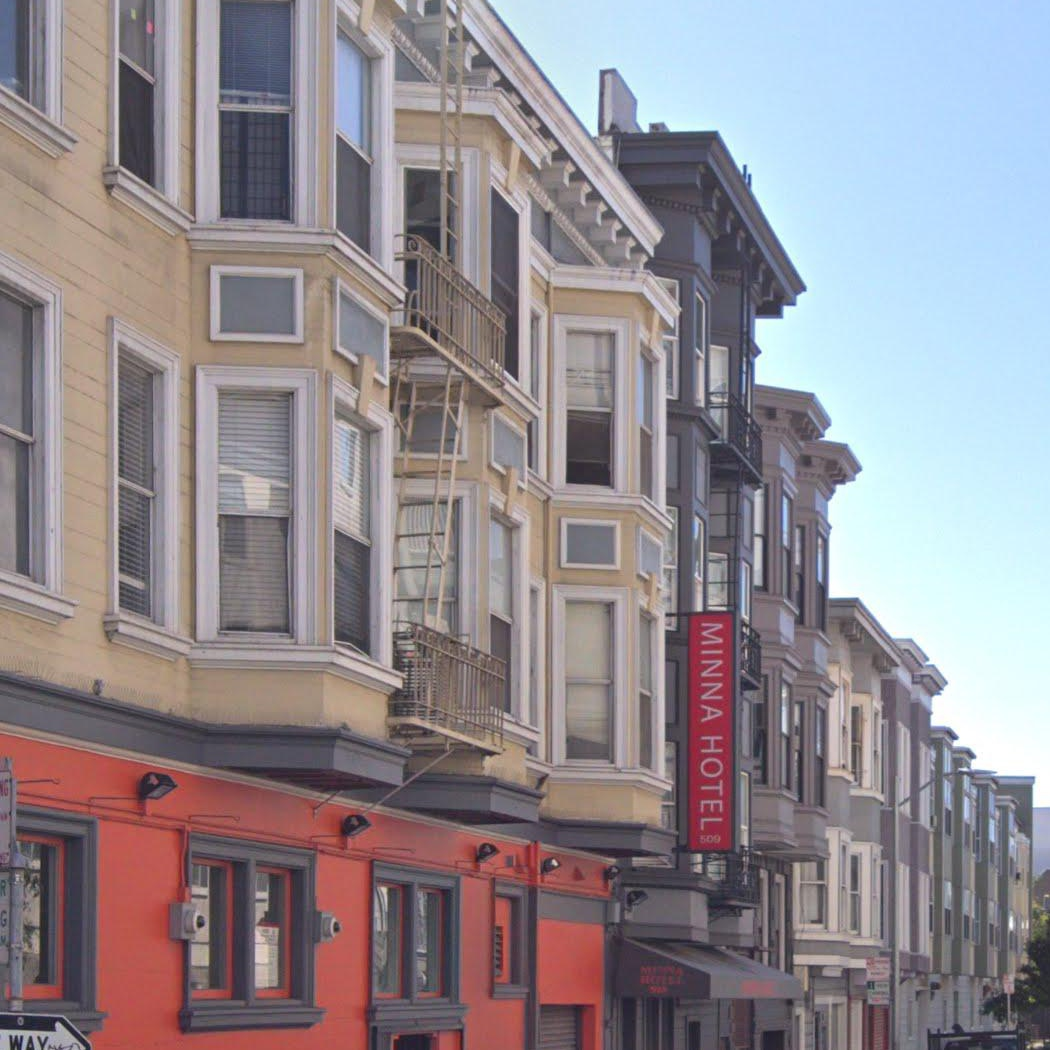1 Hour Parking: (865, 980, 892, 1007)
No Parking: (864, 954, 892, 980)
